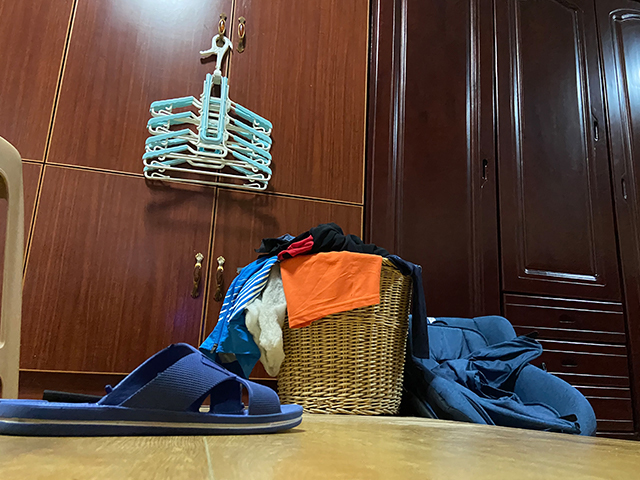cabinet: (1, 1, 640, 441)
slippers: (1, 342, 305, 438)
